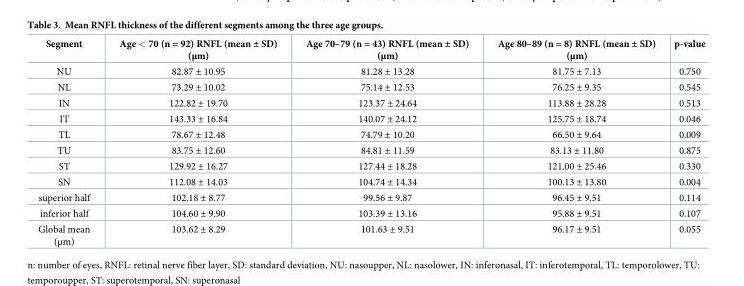table: (37, 36, 704, 247)
table column: (290, 36, 482, 247), (103, 36, 290, 247), (482, 36, 664, 247), (37, 36, 103, 247), (664, 36, 704, 247)
table column header: (37, 36, 704, 63)
table row: (37, 36, 704, 63), (37, 220, 704, 247), (37, 78, 704, 94), (37, 94, 704, 110), (37, 110, 704, 126), (37, 126, 704, 142), (37, 157, 704, 173), (37, 173, 704, 189), (37, 189, 704, 205), (37, 63, 704, 78), (37, 142, 704, 157), (37, 205, 704, 220)
